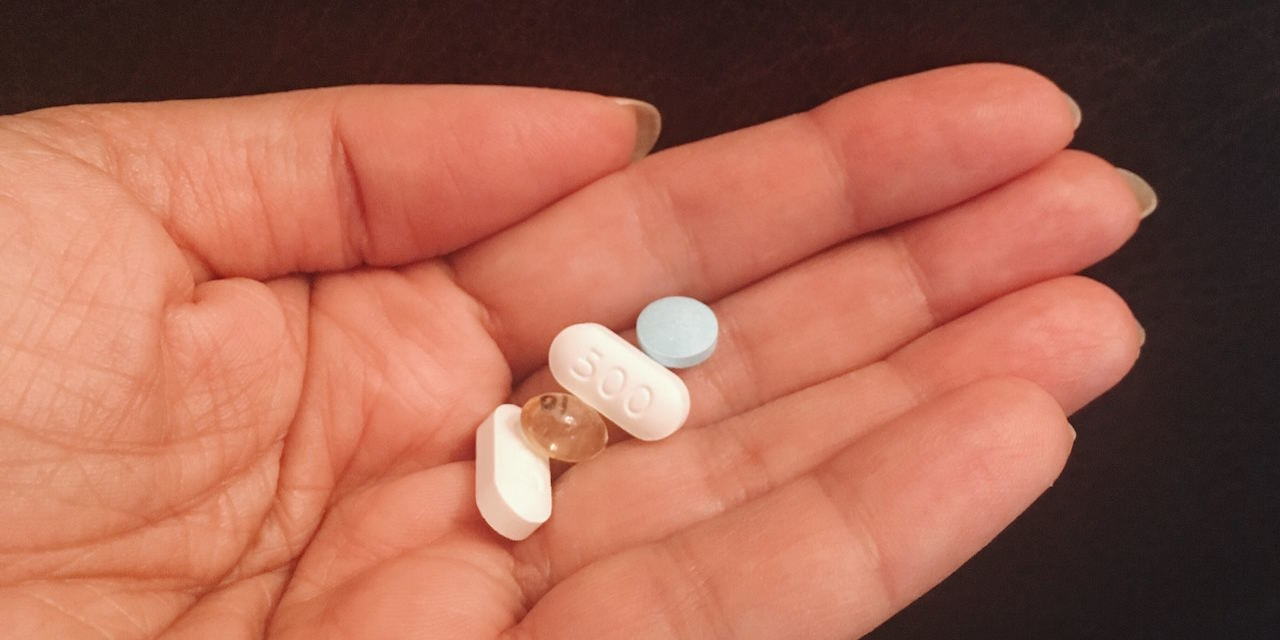pills: (536, 317, 679, 438), (462, 398, 544, 544), (633, 274, 736, 364)
